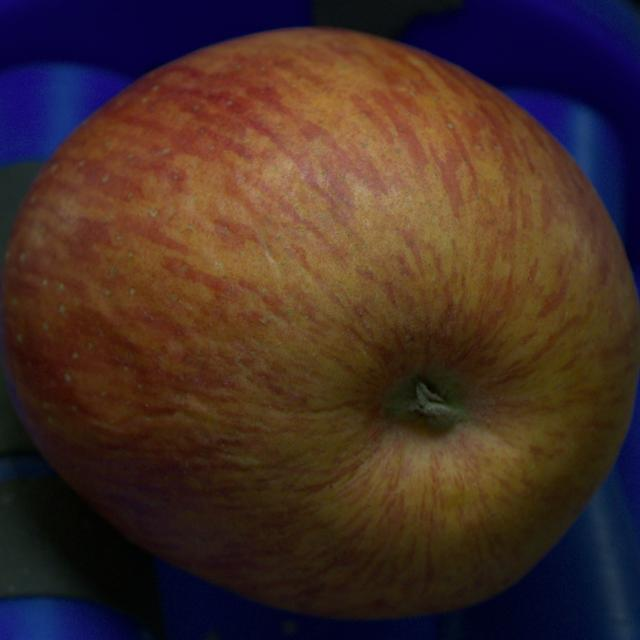apple: (0, 28, 639, 618)
bruise: (55, 310, 152, 424)
